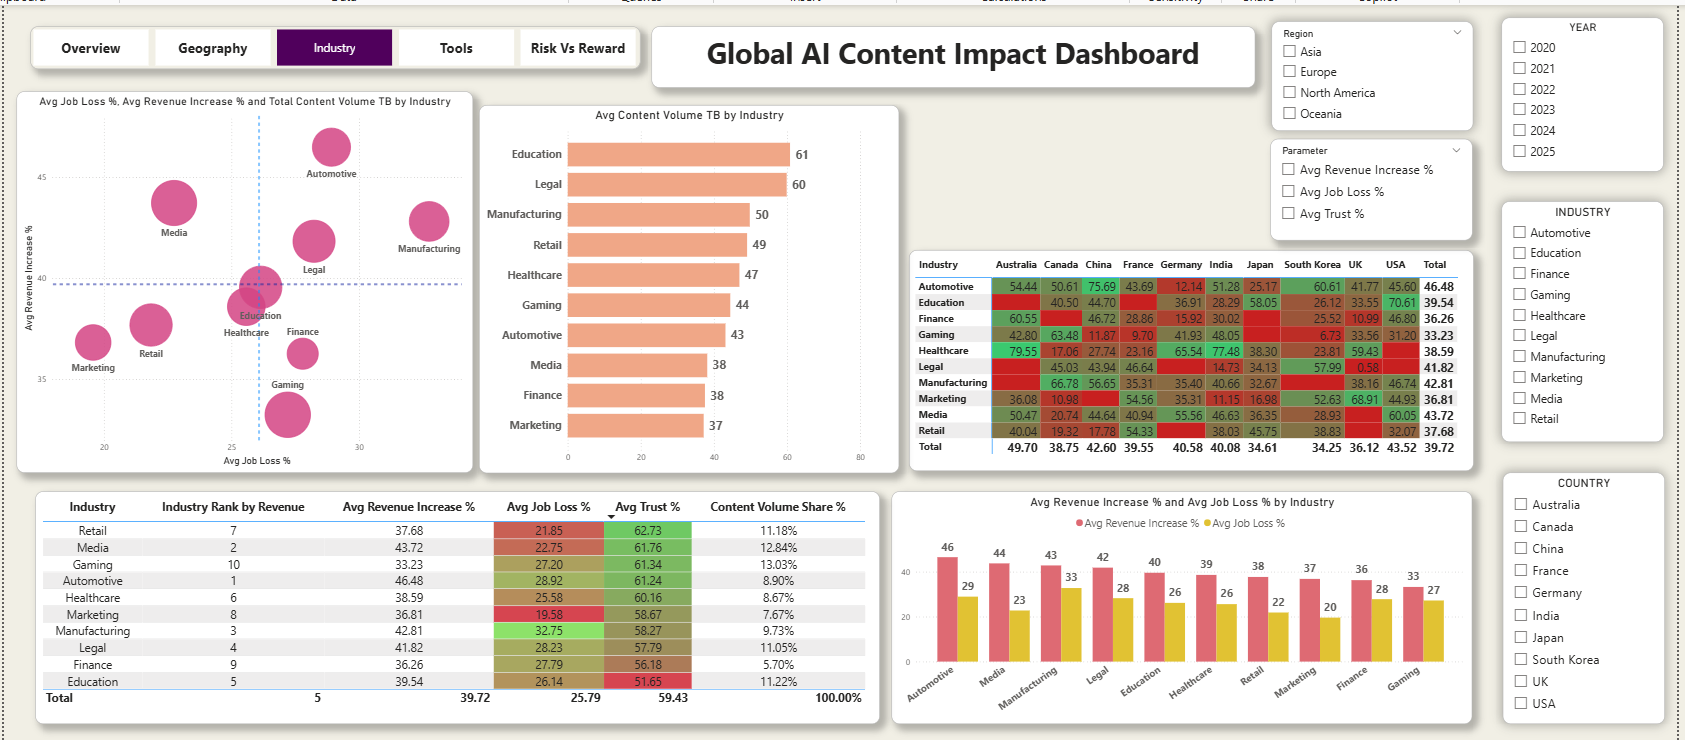

The dashboard page shown, as its layout file describes it:
{"tool":"powerbi","page":{"name":"Industry","canvas":[2500,1100],"ordinal":2},"visuals":[{"type":"clusteredColumnChart","fields":{"Category":["AI_Content_Impact_Cleaned.Industry"],"Y":["Measures Table.Avg Revenue Increase %","Measures Table.Avg Job Loss %"]},"box":[1358,726,836,348],"z":0,"group":"g1"},{"type":"slicer","fields":{"Values":["AI_Content_Impact_Cleaned.Region"]},"box":[1893,24.1,302,164.1],"z":500,"group":"g1"},{"type":"pivotTable","fields":{"Rows":["AI_Content_Impact_Cleaned.Industry"],"Columns":["AI_Content_Impact_Cleaned.Country"],"Values":["Measures Table.Avg Revenue Increase %"]},"box":[722,366,802,328],"z":1000,"group":"g1"},{"type":"scatterChart","fields":{"X":["Measures Table.Avg Job Loss %"],"Y":["Measures Table.Avg Revenue Increase %"],"Category":["AI_Content_Impact_Cleaned.Industry"],"Size":["Measures Table.Total Content Volume TB"]},"box":[28,254,672,444],"z":2000,"group":"g1"},{"type":"clusteredBarChart","fields":{"Category":["AI_Content_Impact_Cleaned.Industry"],"Y":["Measures Table.Avg Content Volume TB"]},"box":[1550,380,644,314],"z":2250,"group":"g1"},{"type":"slicer","fields":{"Values":["Parameter.Parameter"]},"box":[1892,200,302,152],"z":2500,"group":"g1"},{"type":"slicer","title":"YEAR","fields":{"Values":["AI_Content_Impact_Cleaned.Year"]},"box":[2219.7,24.1,242.6,230.6],"z":3000},{"type":"tableEx","fields":{"Values":["AI_Content_Impact_Cleaned.Industry","Measures Table.Industry Rank by Revenue","Measures Table.Avg Revenue Increase %","Measures Table.Avg Job Loss %","Measures Table.Avg Trust %","Measures Table.Content Volume Share %"]},"box":[46,726,1262,348],"z":3000,"group":"g1"},{"type":"slicer","title":"COUNTRY","fields":{"Values":["AI_Content_Impact_Cleaned.Country"]},"box":[2219.7,697.8,242.6,377],"z":4000},{"type":"slicer","title":"INDUSTRY","fields":{"Values":["AI_Content_Impact_Cleaned.Industry"]},"box":[2219,295.4,242.9,376.4],"z":5000},{"type":"group","id":"g1","title":"Industry","box":[28,24.1,2167,1049.9],"z":6000}]}

Visuals, with their boxes on the page's 2500x1100 design canvas (x1, y1, x2, y2). These are canvas units, not pixel positions in the 1685x740 screenshot, which may show the page scaled, cropped or inside an application window:
clusteredColumnChart - AI_Content_Impact_Cleaned.Industry x Measures Table.Avg Revenue Increase %: (1358, 726, 2194, 1074)
slicer - AI_Content_Impact_Cleaned.Region: (1893, 24, 2195, 188)
pivotTable - AI_Content_Impact_Cleaned.Industry x AI_Content_Impact_Cleaned.Country: (722, 366, 1524, 694)
scatterChart - Measures Table.Avg Job Loss % x Measures Table.Avg Revenue Increase %: (28, 254, 700, 698)
clusteredBarChart - AI_Content_Impact_Cleaned.Industry x Measures Table.Avg Content Volume TB: (1550, 380, 2194, 694)
slicer - Parameter.Parameter: (1892, 200, 2194, 352)
"YEAR" slicer: (2220, 24, 2462, 255)
tableEx - AI_Content_Impact_Cleaned.Industry x Measures Table.Industry Rank by Revenue: (46, 726, 1308, 1074)
"COUNTRY" slicer: (2220, 698, 2462, 1075)
"INDUSTRY" slicer: (2219, 295, 2462, 672)
"Industry" group: (28, 24, 2195, 1074)
